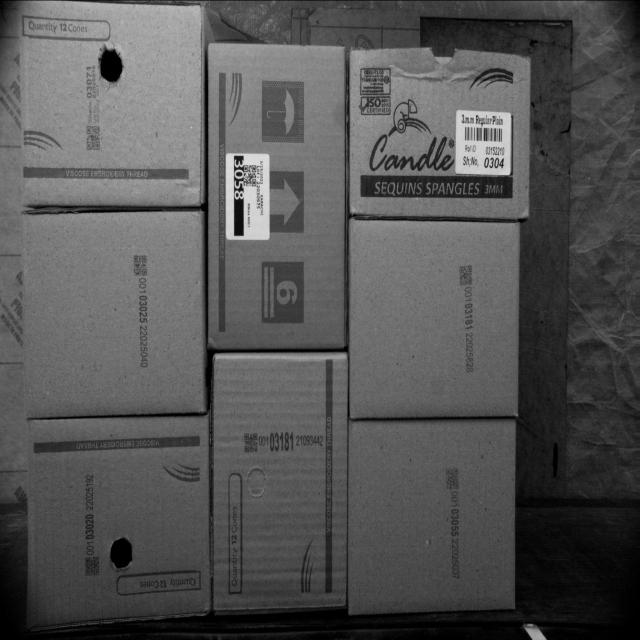cardboxes: (208, 46, 348, 349), (20, 209, 208, 413), (26, 415, 210, 621), (19, 0, 203, 206), (212, 355, 348, 615), (350, 220, 525, 418), (346, 418, 518, 616), (350, 50, 534, 216)
